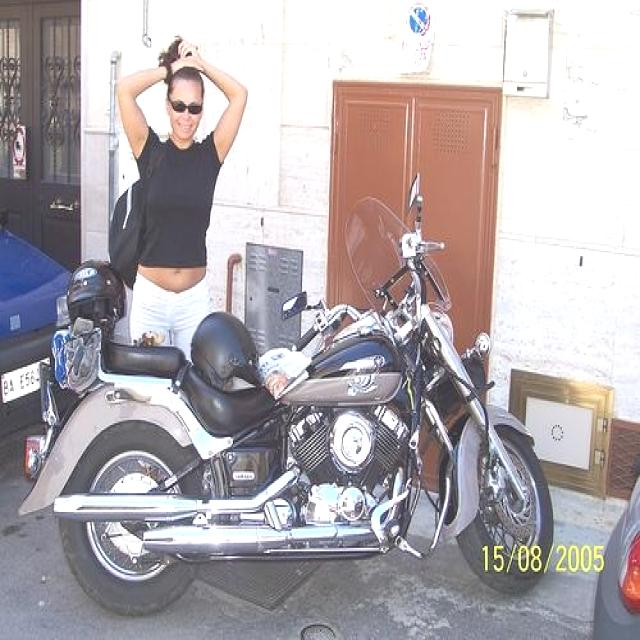Car: (0, 204, 79, 440), (593, 462, 640, 640)
Cycle: (16, 167, 554, 619)
